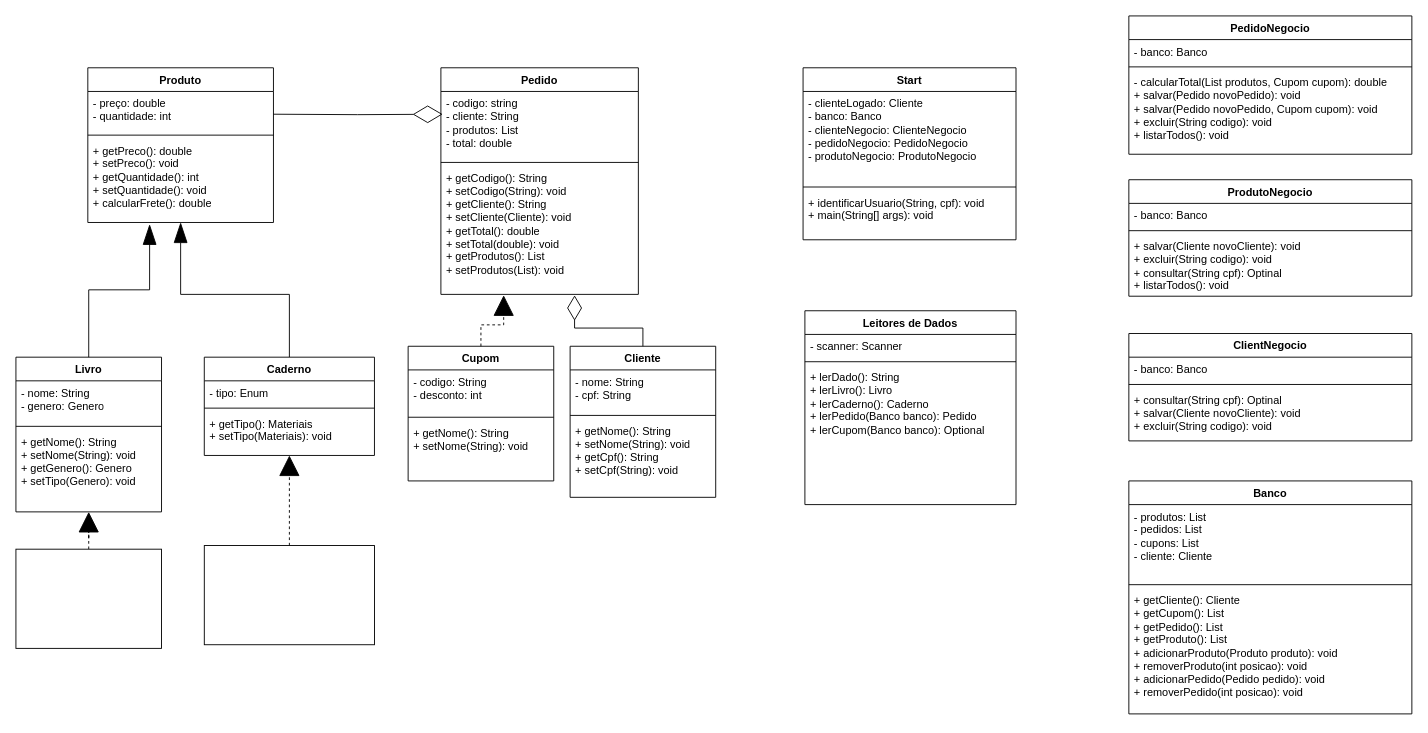
Some shapes in this 1428 by 733 pixel diagram are drawn without their labels. The shapes that lost their labels are listed below. From the top down, each one's centre as x and y in pixels, then its label:
the point at 88,598: Enumeration Genero Drama Suspense Romance
the point at 288,595: Enumeration Materiais M2 M5 M10
